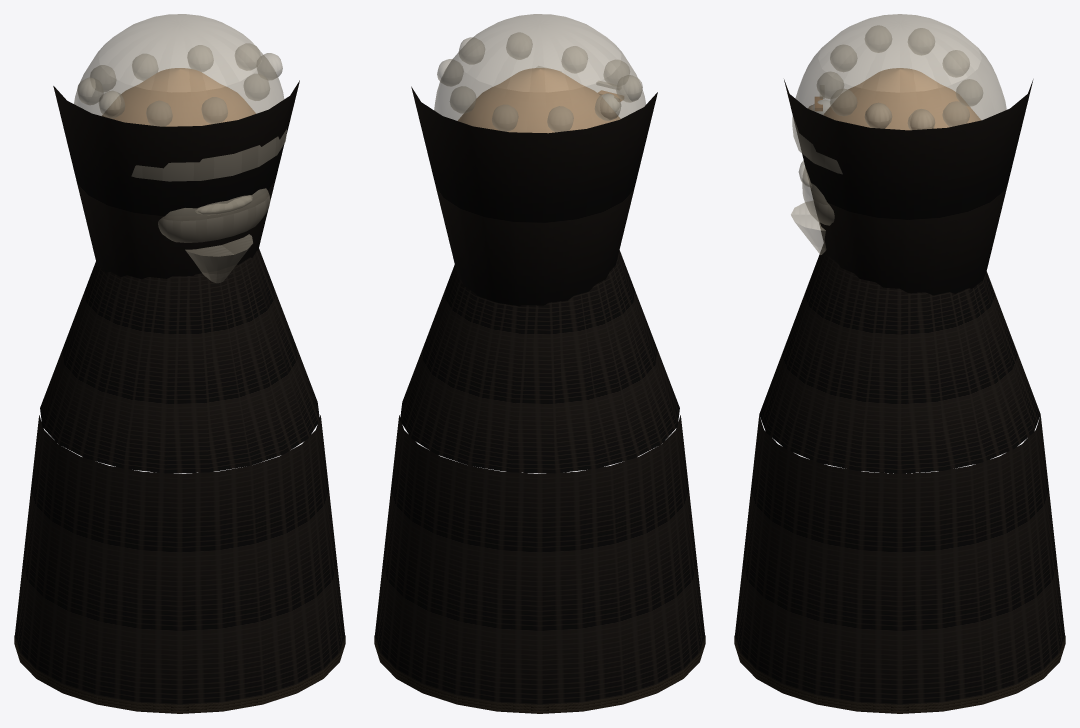
File: judas_betrayal.glb
3 renders of one model, left to right at view 1: azimuth 30°, elevation 25°; view 2: azimuth 150°, elevation 25°; view 3: azimuth 270°, elevation 25°, orthographic.
Visible parts, largest first — view 1: Character_judas_betrayal, head; view 2: Character_judas_betrayal, head; view 3: Character_judas_betrayal, head.
Part boxes in pixels (<box>): Character_judas_betrayal: <box>14,14,345,713</box>; head: <box>102,68,255,126</box>; Character_judas_betrayal: <box>374,14,705,713</box>; head: <box>458,68,620,132</box>; Character_judas_betrayal: <box>734,14,1065,713</box>; head: <box>824,68,980,129</box>.
Bounding box in the file's own units: 0.8712 × 1.8 × 0.8712.
Materials: 10 (6 with a texture image).
